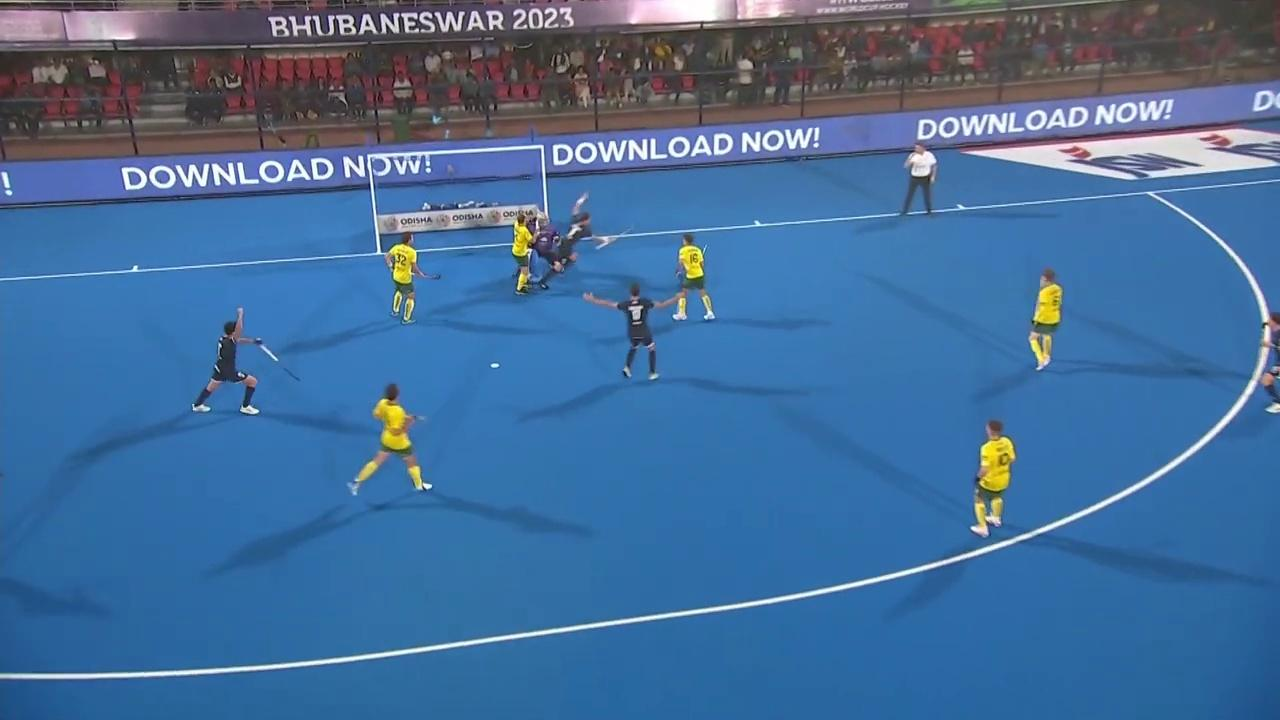ball: (955, 514, 990, 541)
